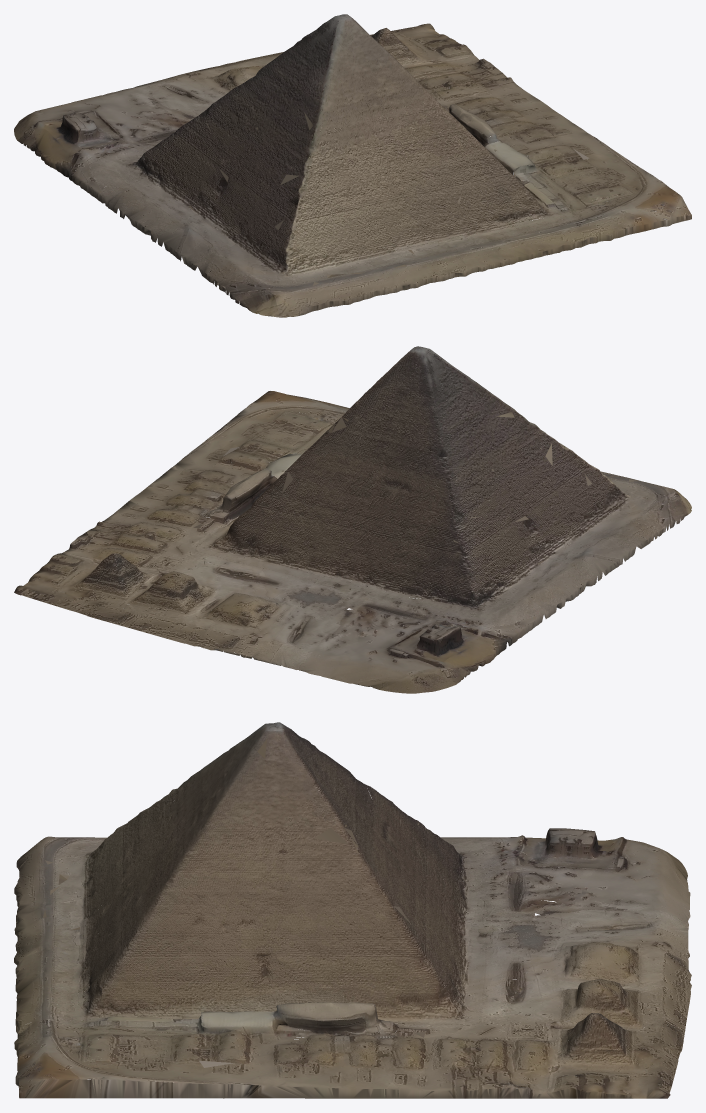
3 views of the same model, one above another, from view 1: azimuth 30°, elevation 25°; view 2: azimuth 150°, elevation 25°; view 3: azimuth 270°, elevation 25° (orthographic). The views are drawn at different scales.
Parts seen in each view (by area): view 1: Great_Pyramid_of_Giza__Cube_; view 2: Great_Pyramid_of_Giza__Cube_; view 3: Great_Pyramid_of_Giza__Cube_.
Boxes of the visible parts, left/top/right/bottom form: Great_Pyramid_of_Giza__Cube_: left=14, top=14, right=691, bottom=317; Great_Pyramid_of_Giza__Cube_: left=14, top=346, right=691, bottom=693; Great_Pyramid_of_Giza__Cube_: left=14, top=722, right=691, bottom=1098.
Size of the model in its own units: 5.34 by 2.22 by 5.99.
1 material, 1 textured.
